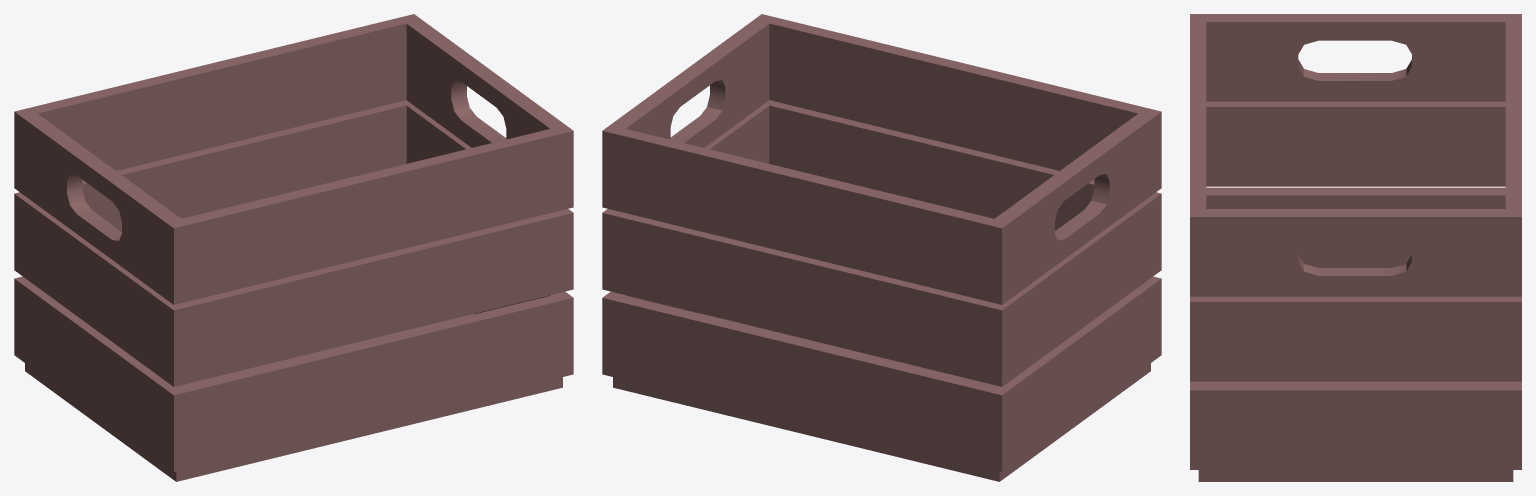
3 views of the same model, side by side, from view 1: azimuth 30°, elevation 25°; view 2: azimuth 150°, elevation 25°; view 3: azimuth 270°, elevation 25° (orthographic). The views are drawn at different scales.
Parts seen in each view (by area): view 1: polySurface9; view 2: polySurface9; view 3: polySurface9.
Part boxes in pixels (bbox=[...]): polySurface9: bbox=[14, 14, 573, 481]; polySurface9: bbox=[602, 14, 1161, 481]; polySurface9: bbox=[1190, 14, 1521, 481].
Size of the model in its own units: 51.32 by 31.67 by 35.48.
